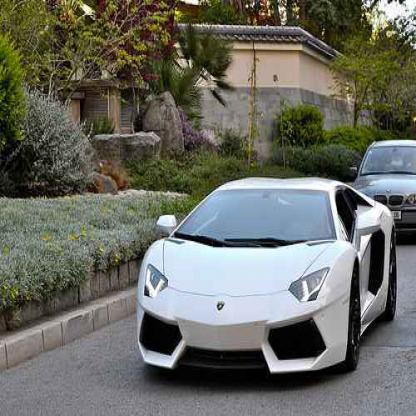Vehicle: (134, 178, 397, 384)
